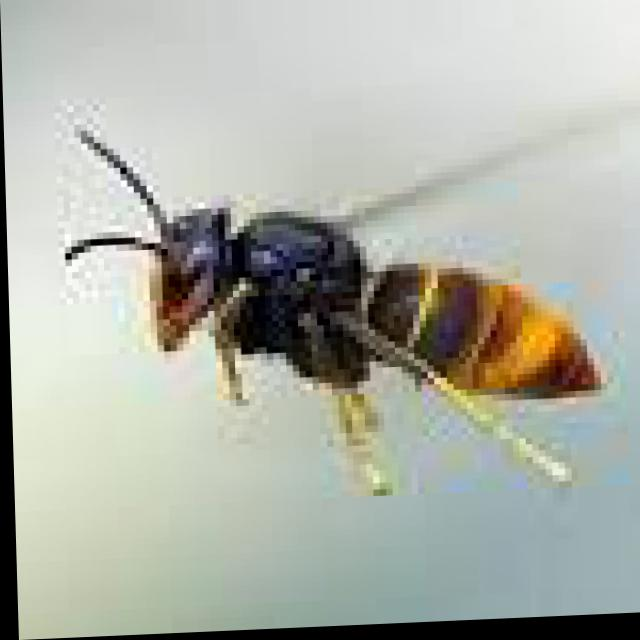Vespa Velutina: (46, 80, 639, 530)
